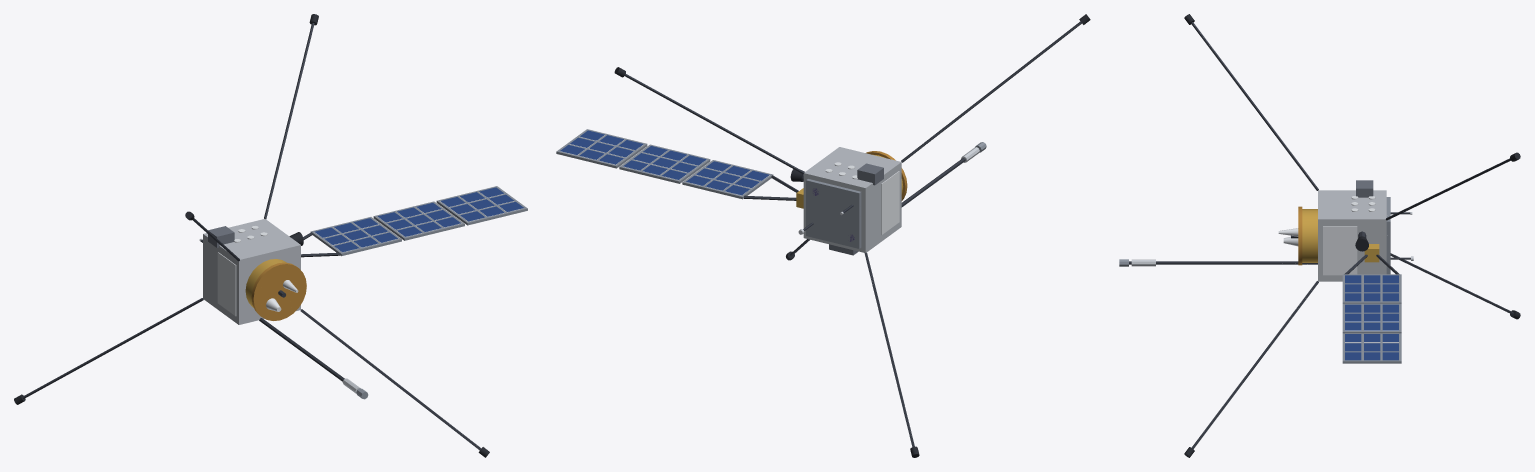
File: cses.glb
3 views of the same model, side by side, from view 1: azimuth 30°, elevation 25°; view 2: azimuth 150°, elevation 25°; view 3: azimuth 270°, elevation 25° (orthographic). The views are drawn at different scales.
Parts seen in each view (by area): view 1: body, foil, solar-panel; view 2: body, foil, solar-panel; view 3: body, solar-panel, foil.
Part boxes in pixels (x1,y1,x2,y2): body: [14, 14, 527, 457]; foil: [203, 219, 300, 324]; solar-panel: [314, 187, 523, 252]; body: [556, 14, 1090, 457]; foil: [796, 147, 901, 252]; solar-panel: [560, 130, 769, 195]; body: [1119, 14, 1520, 457]; solar-panel: [1345, 275, 1398, 360]; foil: [1318, 190, 1386, 281].
Bounding box in the file's own units: 9.53 × 6.86 × 8.18.
